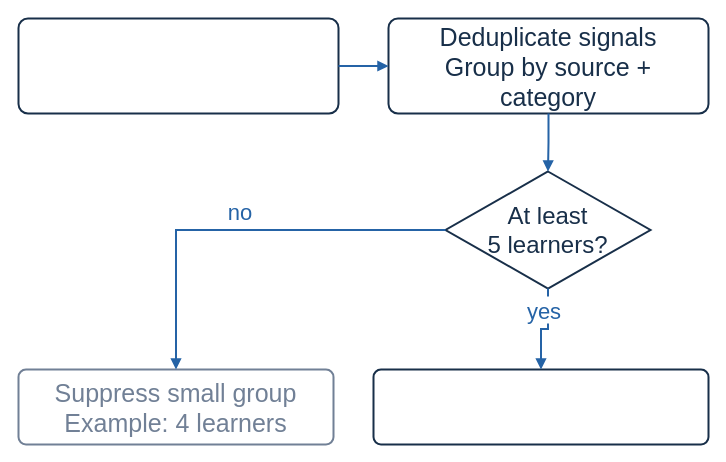
This 726x462 diagram has some shape labels left out. The centre of each missing label's shape, as x and y in pixels:
"Current course + release Last 30 days, not expired" belongs at pixel 178 65.
"Show group counts Demo: 5 learners, 5 signals" belongs at pixel 540 406.
